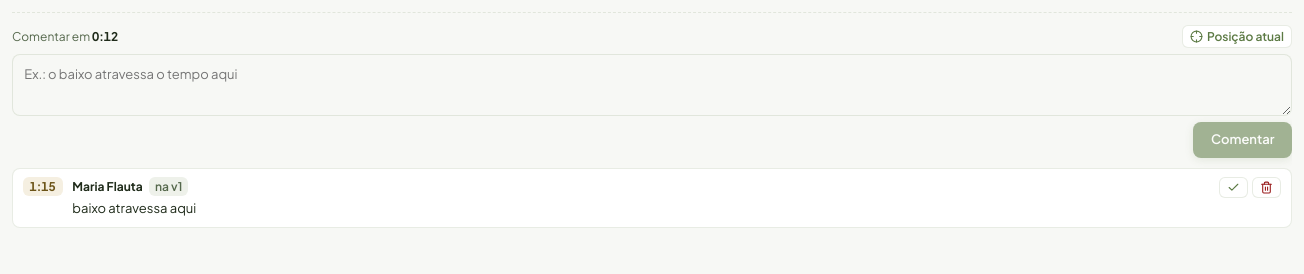
Scenario: ComentariosCamada › resolver esconde o comentário até marcar "Mostrar resolvidos"
The width and height of the screenshot is (1304, 274).
Step 1. Click the button named "Marcar como resolvido" → (1233,187), box top-left (1219, 177), bottom-right (1248, 198)
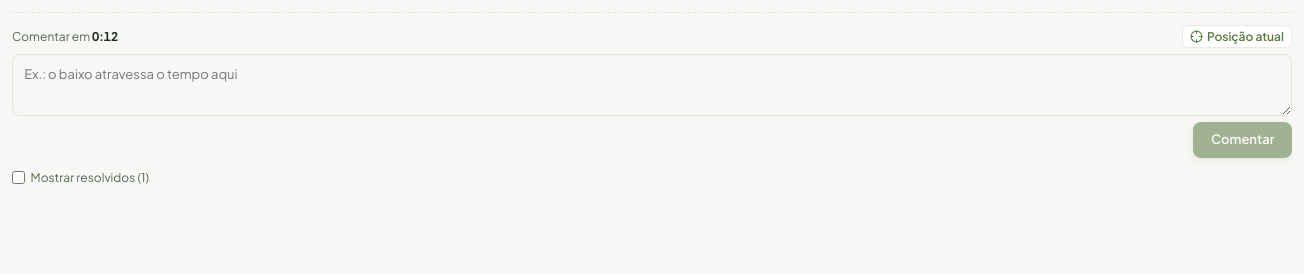
Now the text "baixo atravessa aqui" is gone
Step 2. Click the checkbox labelled "Mostrar resolvidos (1)" → (18,177), box top-left (12, 171), bottom-right (25, 184)
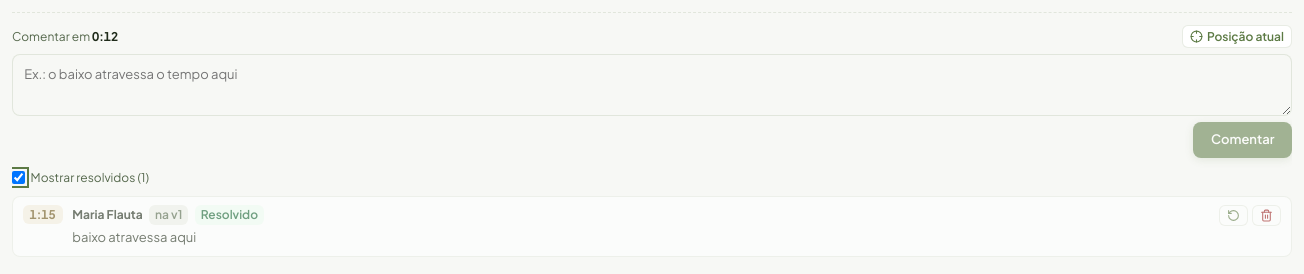
Now the text "Resolvido" is shown, box top-left (195, 205), bottom-right (264, 224)
